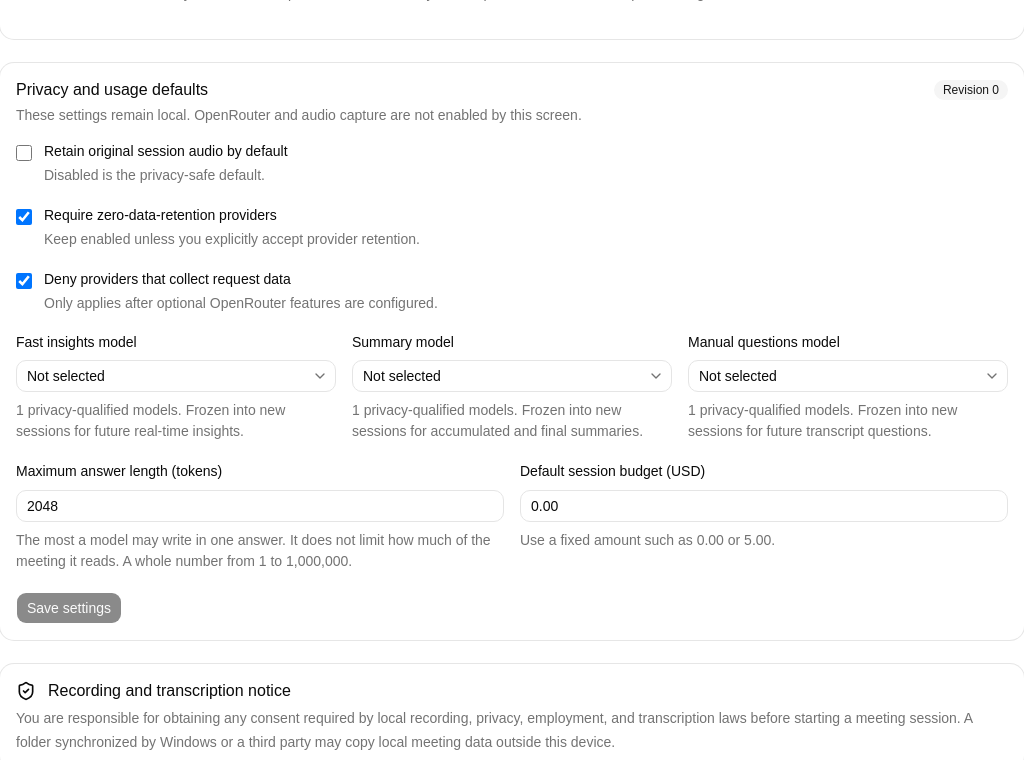
it: SettingsPage › shows the model id and context window in the option
(page scrolled)
Click the dropdown labelled "Fast insights model".
click(162, 376)  # box [17,360,308,392]
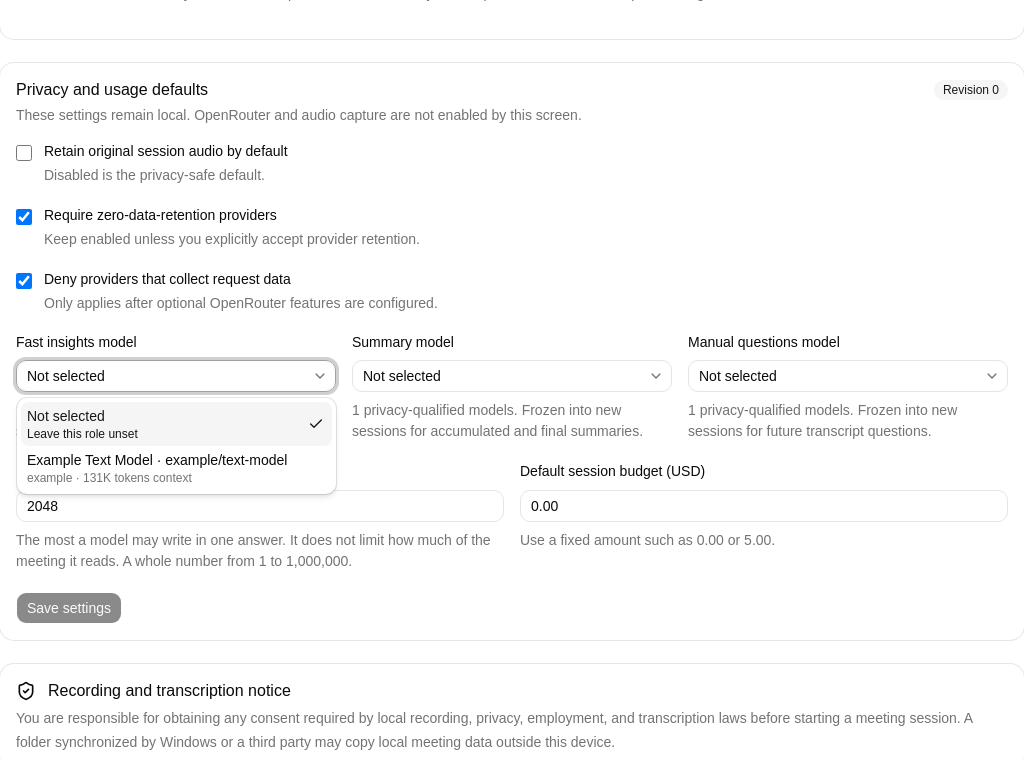
Expected: the option "Example Text Model" shows "example/text-model", [27,452,287,485]
Expected: the option "Example Text Model" shows "context", [27,452,287,485]
